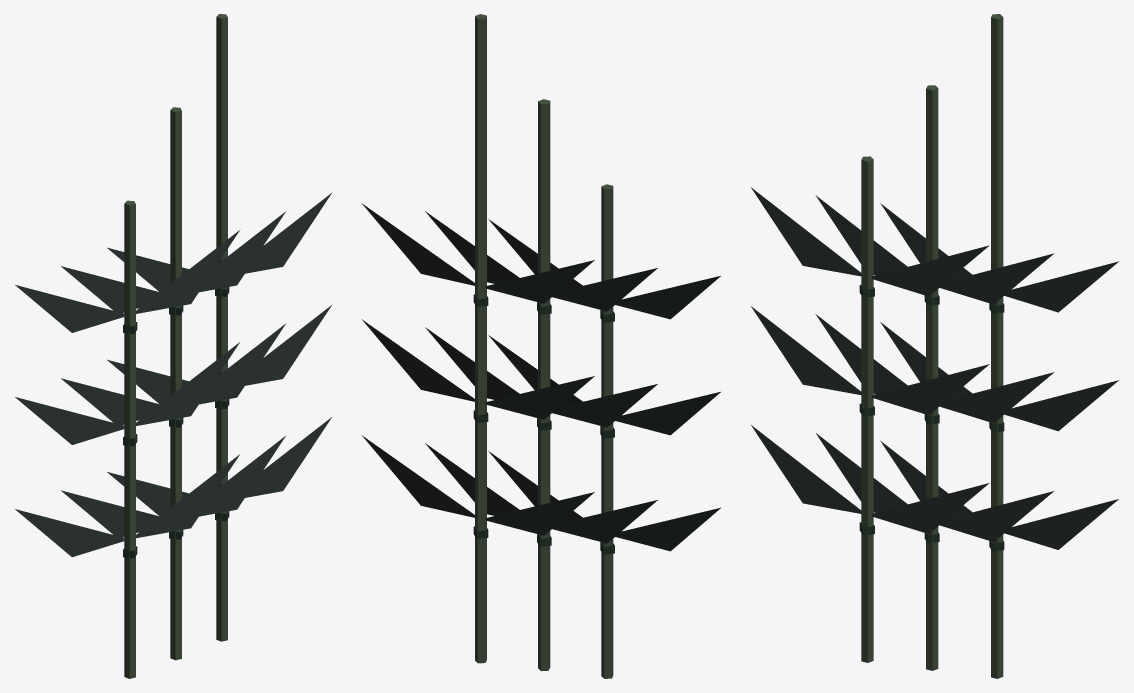
File: bamboo.glb
3 renders of one model, left to right at view 1: azimuth 30°, elevation 25°; view 2: azimuth 150°, elevation 25°; view 3: azimuth 330°, elevation 25°, orthographic. The views are drawn at different scales.
Parts seen in each view (by area): view 1: bamboo; view 2: bamboo; view 3: bamboo.
Part boxes in pixels (left/top/right/bottom): bamboo: left=15, top=14, right=332, bottom=678; bamboo: left=362, top=14, right=720, bottom=678; bamboo: left=751, top=14, right=1118, bottom=678.
Size of the model in its own units: 2.8 by 5 by 0.34.
